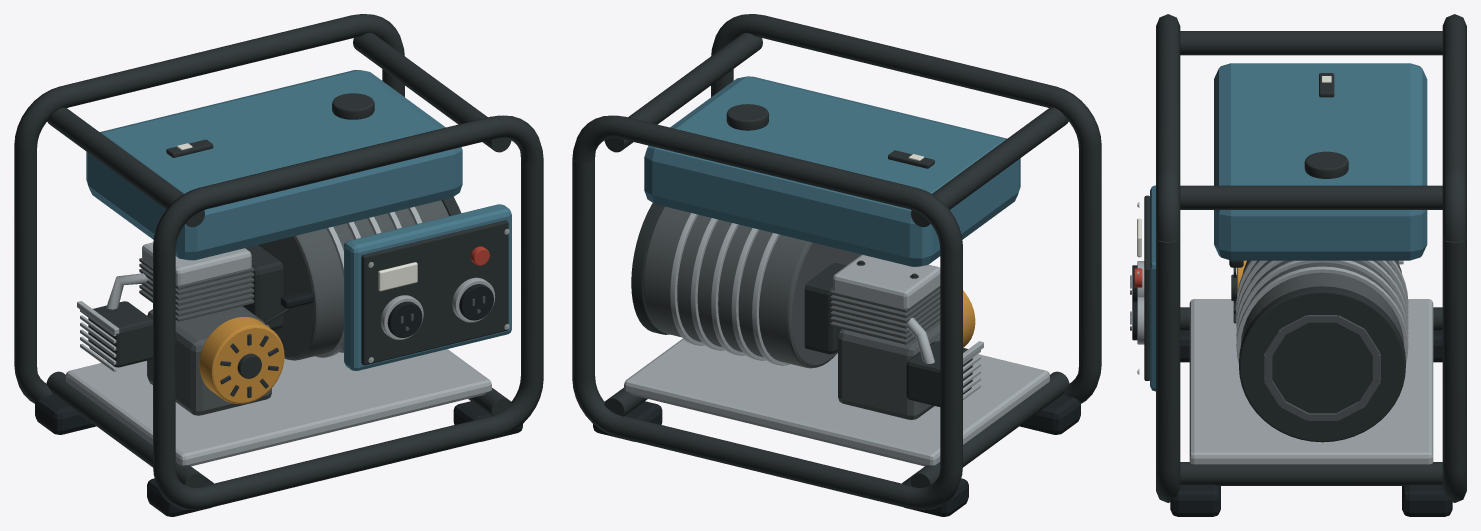
The model's file is city-portable-generator.glb.
3 views of the same model, side by side, from view 1: azimuth 30°, elevation 25°; view 2: azimuth 150°, elevation 25°; view 3: azimuth 270°, elevation 25° (orthographic). The views are drawn at different scales.
Visible parts, largest first — view 1: Assembly | Graphite machine powder coat, Assembly | Service blue enamel, Assembly | Zinc plated steel, Assembly | Rough cast iron, Assembly | Non-marking rubber, Assembly | Industrial ochre enamel, Assembly | Blank enamel indicator; view 2: Assembly | Graphite machine powder coat, Assembly | Service blue enamel, Assembly | Zinc plated steel, Assembly | Rough cast iron, Assembly | Non-marking rubber; view 3: Assembly | Graphite machine powder coat, Assembly | Service blue enamel, Assembly | Zinc plated steel, Assembly | Rough cast iron, Assembly | Non-marking rubber.
Boxes of the visible parts, box(x1,y1,x2,y2) form: Assembly | Graphite machine powder coat: box(14, 14, 543, 509); Assembly | Service blue enamel: box(86, 70, 511, 370); Assembly | Zinc plated steel: box(66, 206, 509, 466); Assembly | Rough cast iron: box(139, 200, 485, 415); Assembly | Non-marking rubber: box(35, 284, 522, 516); Assembly | Industrial ochre enamel: box(199, 317, 284, 403); Assembly | Blank enamel indicator: box(177, 143, 417, 291); Assembly | Graphite machine powder coat: box(572, 14, 1101, 509); Assembly | Service blue enamel: box(644, 76, 1020, 266); Assembly | Zinc plated steel: box(624, 213, 1049, 466); Assembly | Rough cast iron: box(643, 206, 940, 419); Assembly | Non-marking rubber: box(593, 394, 1080, 516); Assembly | Graphite machine powder coat: box(1144, 14, 1466, 502); Assembly | Service blue enamel: box(1150, 63, 1427, 391); Assembly | Zinc plated steel: box(1137, 202, 1433, 464); Assembly | Rough cast iron: box(1130, 260, 1403, 421); Assembly | Non-marking rubber: box(1132, 260, 1452, 516).
Size of the model in its own units: 0.76 by 0.61 by 0.5525.
